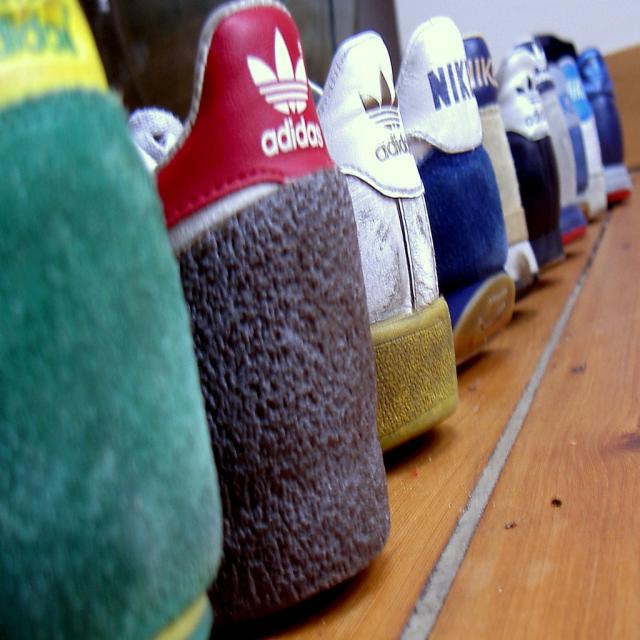adidas: (244, 21, 326, 160), (358, 67, 416, 171)
